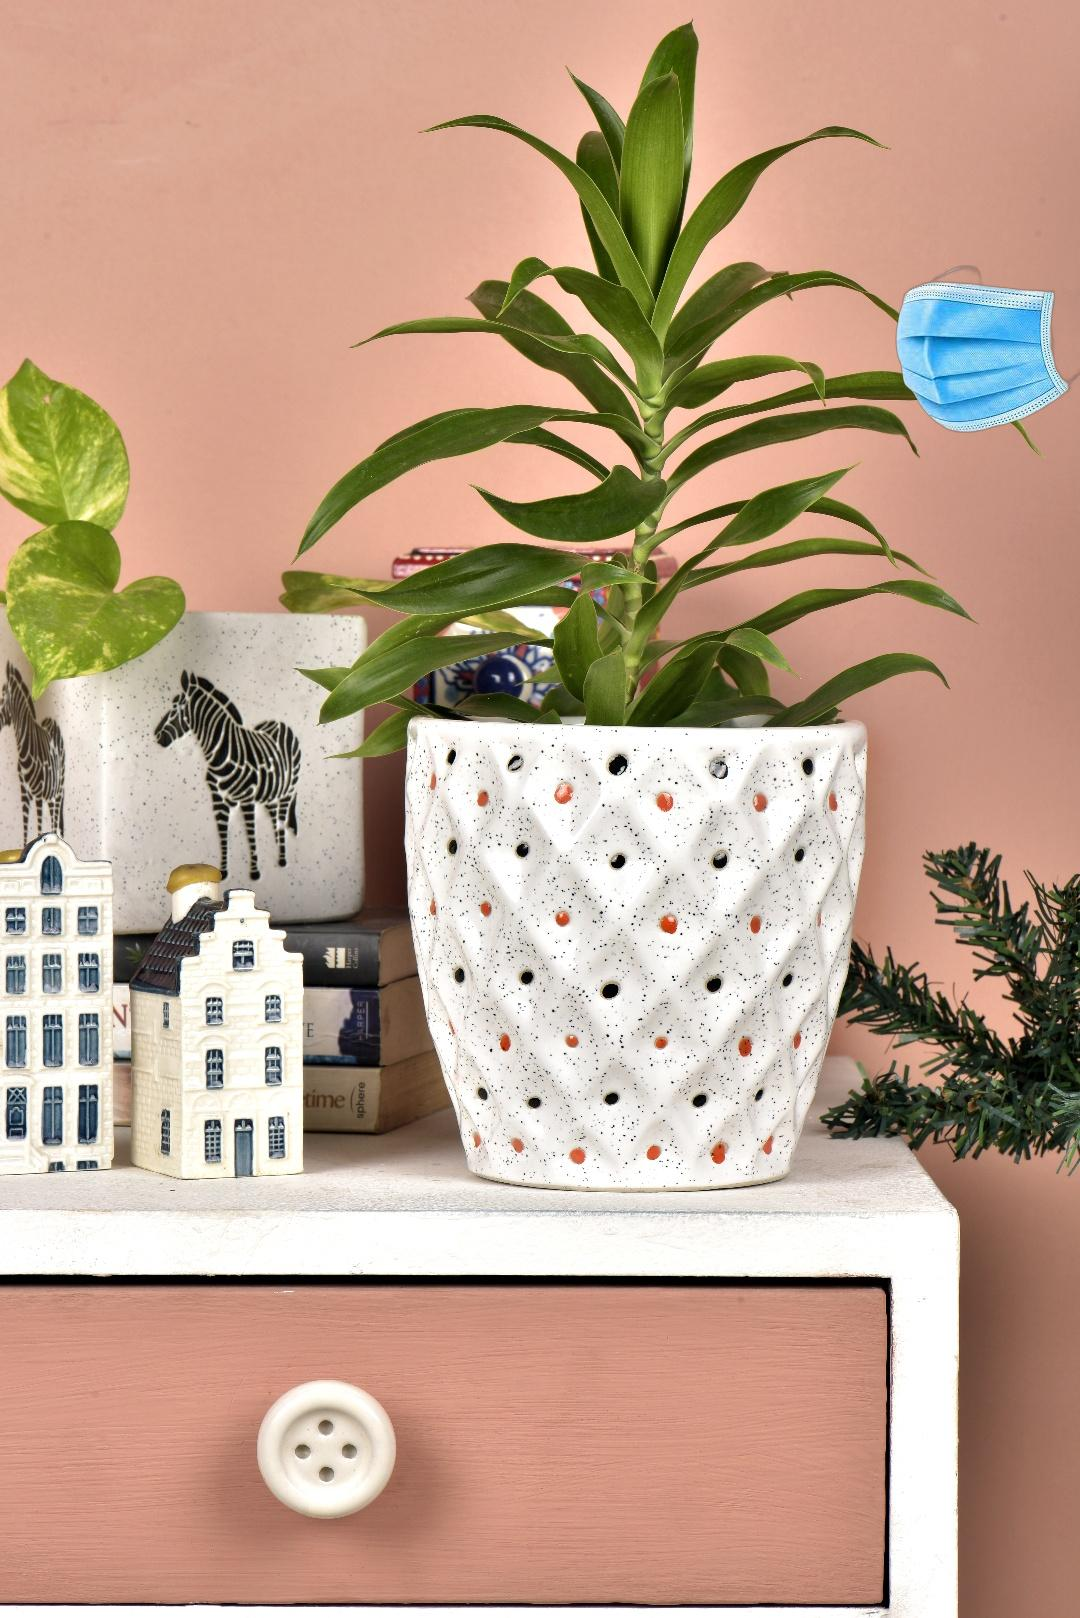trash: (896, 263, 1080, 435)
